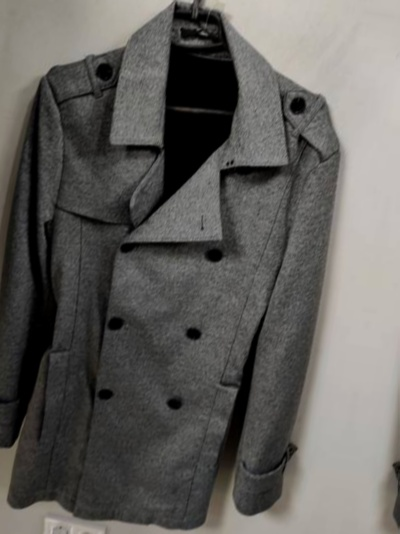Blazer: (0, 0, 384, 534), (360, 54, 400, 534)
